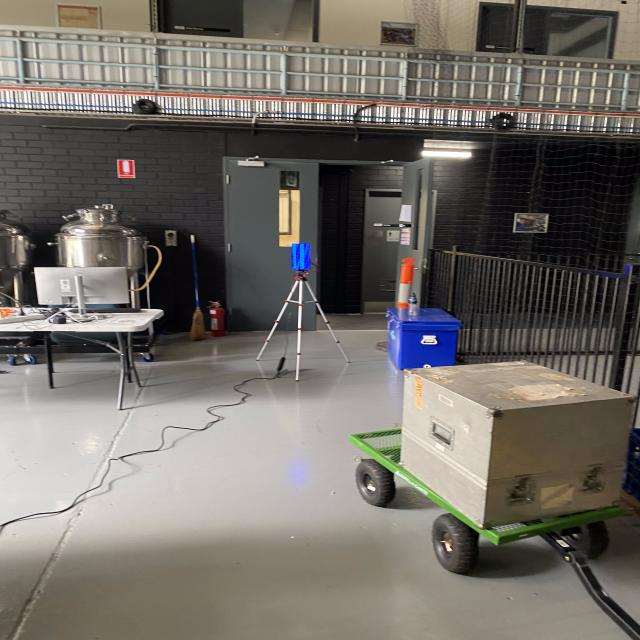matrix: (290, 242, 314, 272)
